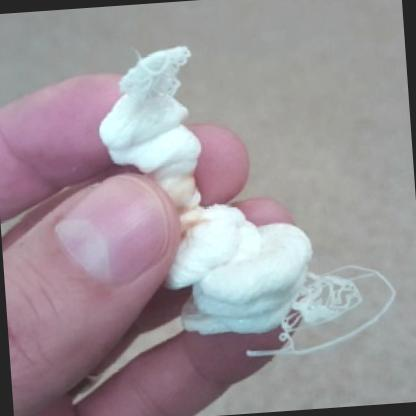fail: (278, 263, 405, 360)
